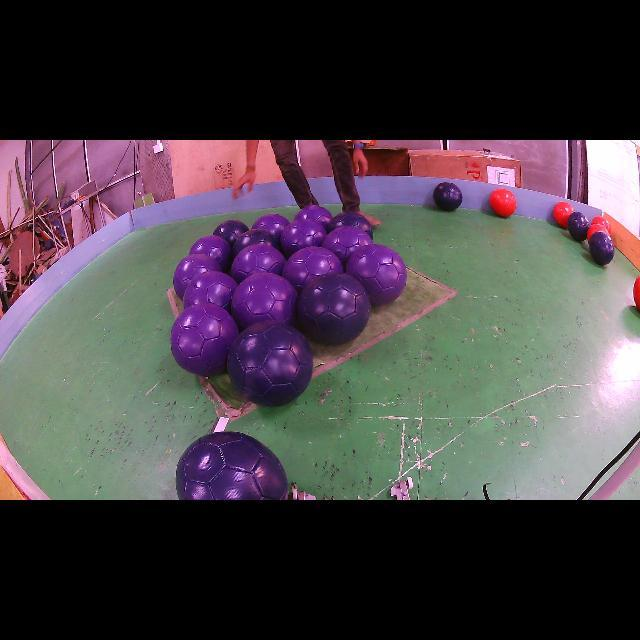B: (175, 431, 288, 500), (227, 321, 313, 406), (298, 272, 370, 345), (230, 229, 276, 261), (332, 212, 373, 237), (212, 219, 248, 246), (589, 231, 615, 265), (434, 182, 462, 211), (568, 211, 590, 241)
P: (170, 302, 239, 377), (231, 272, 298, 330), (346, 244, 406, 305), (281, 246, 342, 292), (182, 271, 238, 312), (172, 254, 221, 300), (322, 226, 372, 268), (231, 244, 285, 282), (278, 219, 326, 259), (188, 235, 230, 272), (251, 212, 289, 240), (294, 205, 332, 230)
R: (490, 189, 516, 216), (554, 201, 575, 228), (588, 224, 609, 242), (591, 216, 611, 234), (634, 276, 640, 311)
